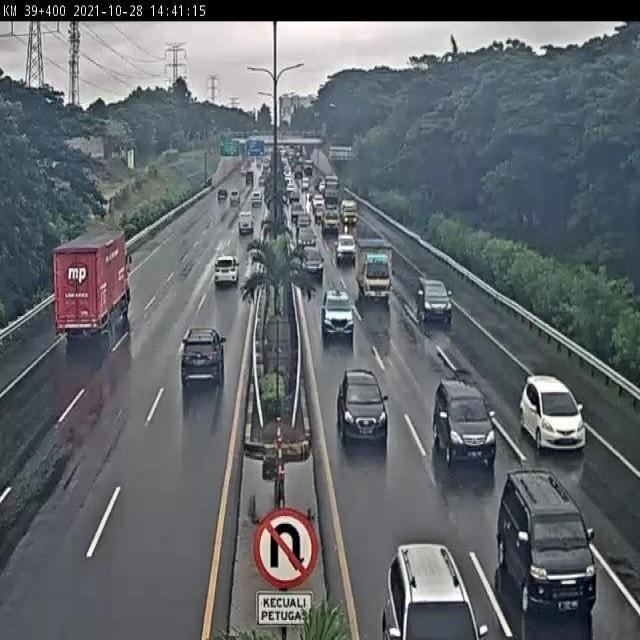car: (497, 466, 598, 614), (520, 373, 587, 452), (433, 379, 496, 461), (336, 370, 389, 442), (180, 326, 225, 391), (416, 277, 453, 324), (319, 284, 352, 335), (213, 255, 239, 284), (300, 245, 324, 276)
mid truck: (53, 228, 133, 337)
truck-m-: (354, 235, 393, 301)
